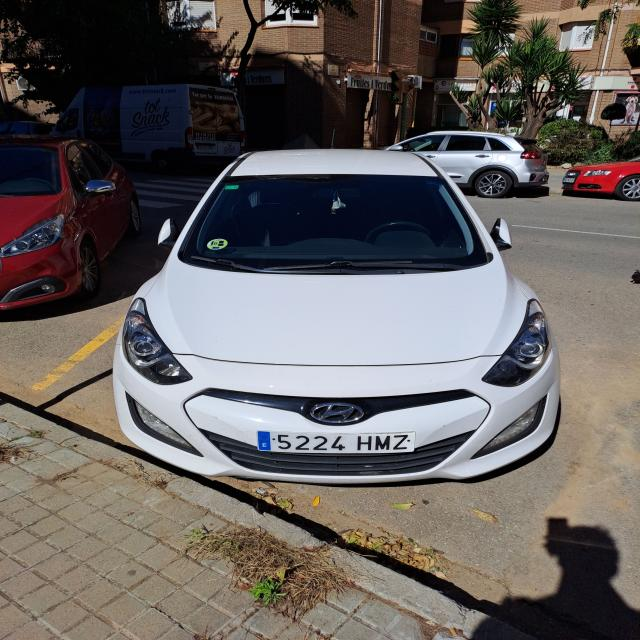license_plate-34Td: (257, 431, 415, 455)
